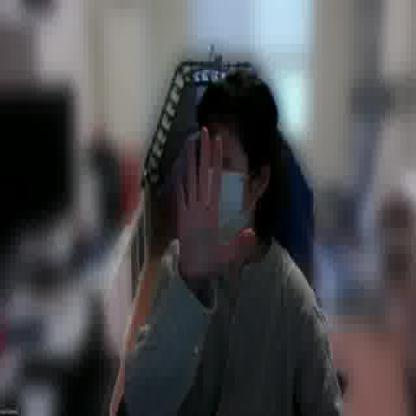five: (172, 124, 258, 288)
